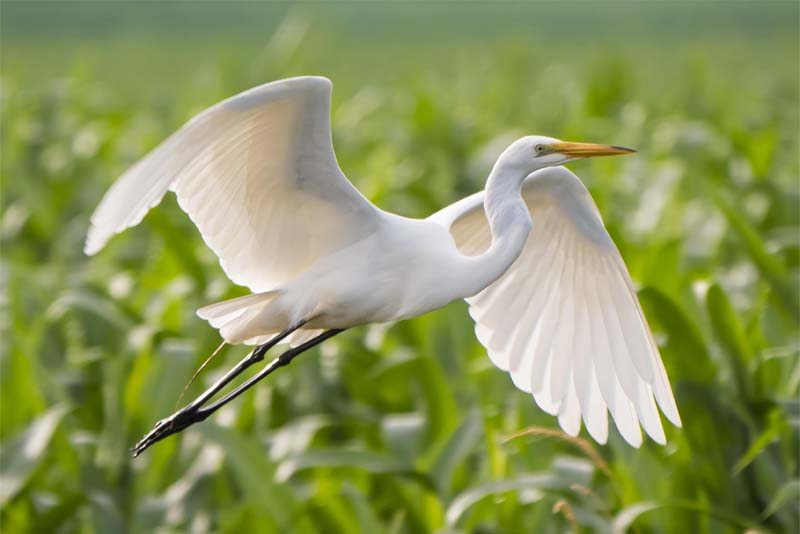bird: (66, 56, 695, 483)
